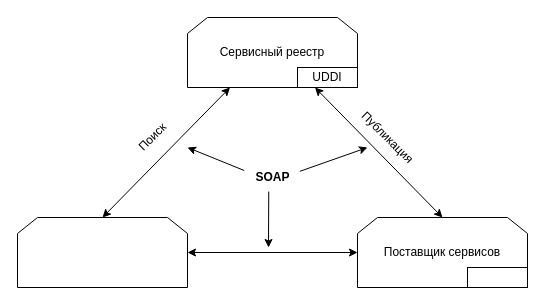
Image size: 545x305. Some labels were removed from this diagram. Here are the shapes that lost their labels. From the top down, the centre of each, then its label:
At pixel 102 252: "Потребитель сервисов".
At pixel 497 277: "WSDL".
